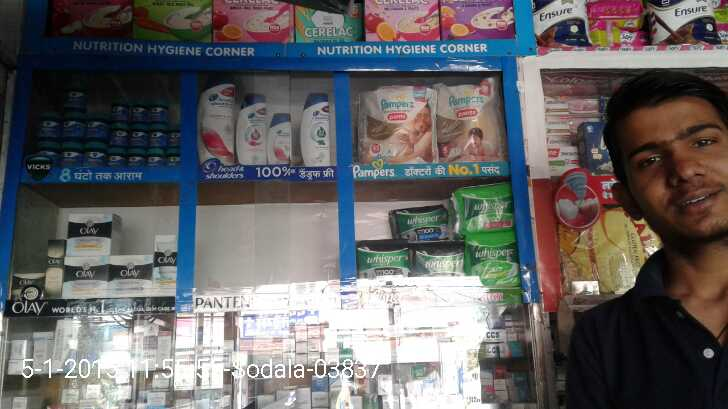vicks: (31, 82, 189, 172)
